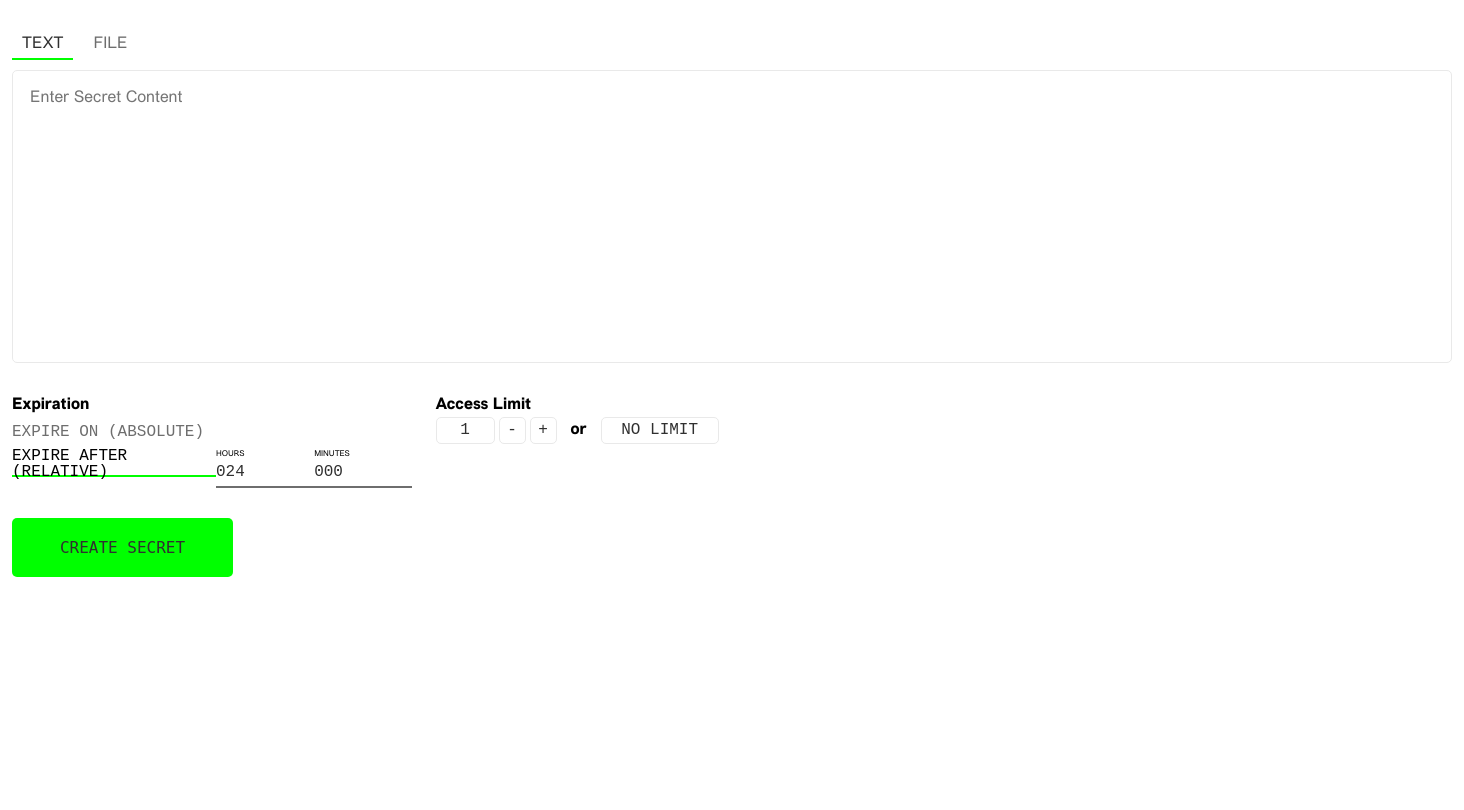
Test case: When rendering CreateSecretForm › and modifying the access limit › should increment access limit
This screenshot has width=1464, height=810.
Check: the text box with test id "secret-content" is shown, box [12, 70, 1452, 363]
Click the button with test id "access-limit-increment-button": [543, 430] box [530, 417, 556, 444]
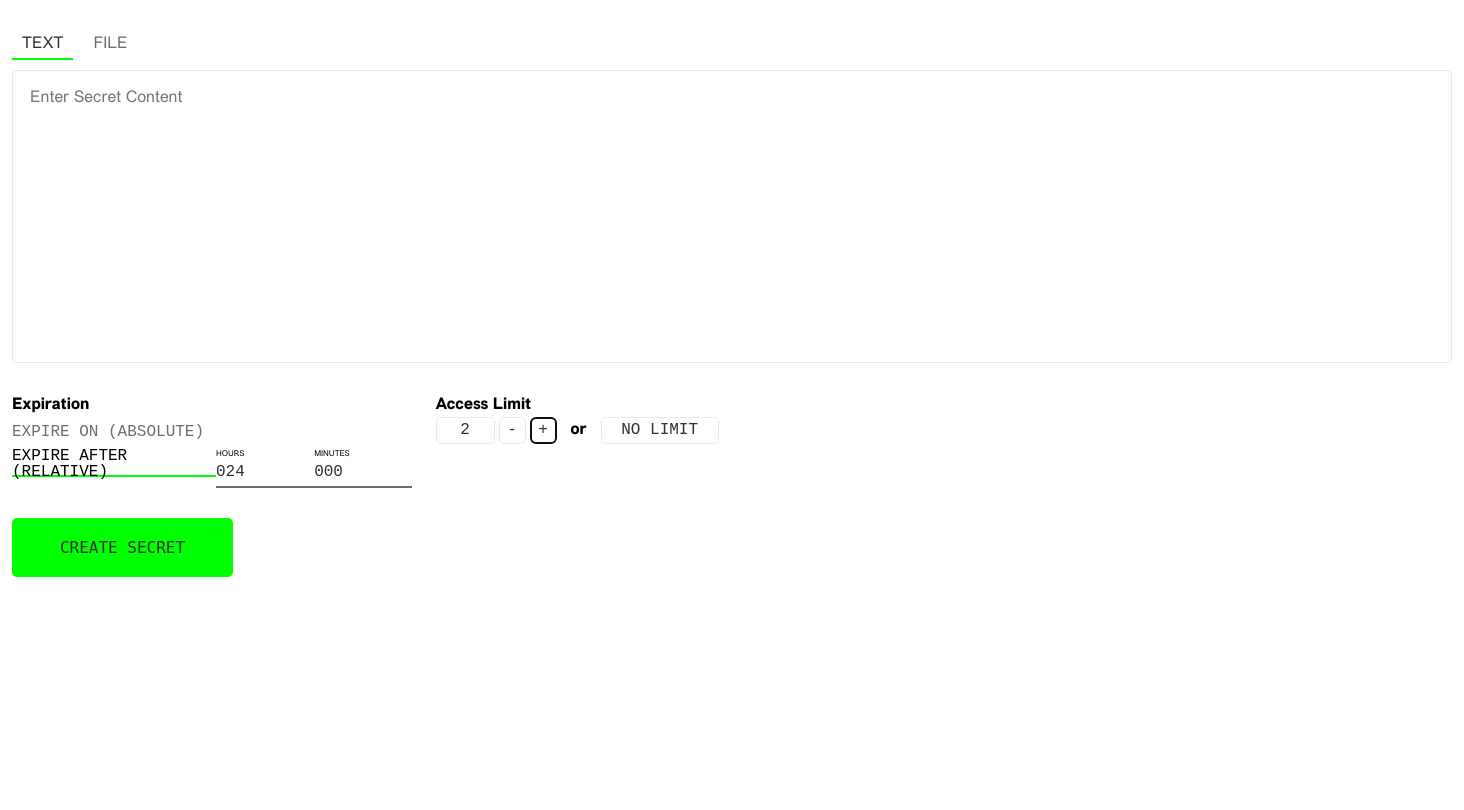
Click the button with test id "access-limit-increment-button": [543, 430] box [530, 417, 556, 444]
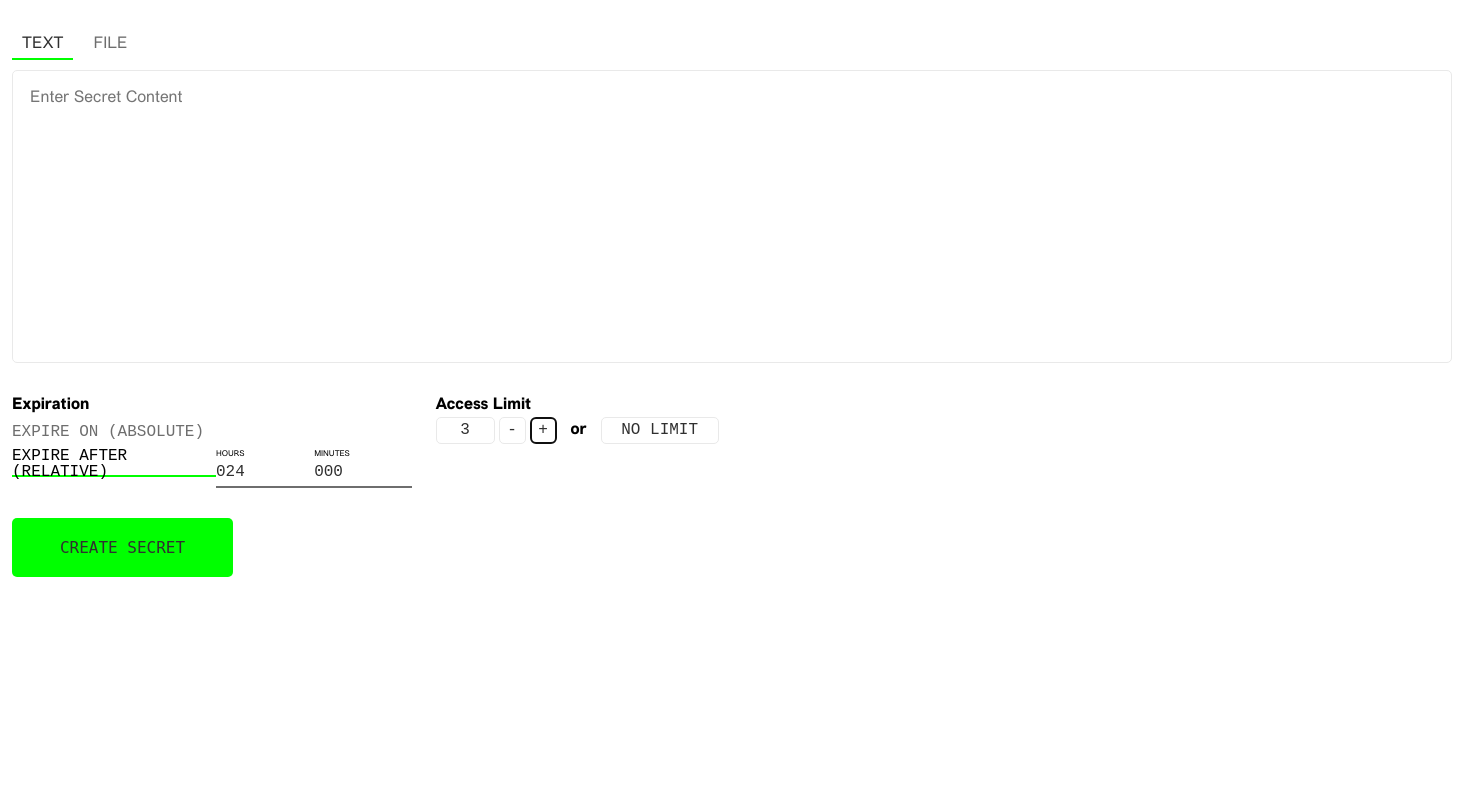
Click the button with test id "access-limit-increment-button": [543, 430] box [530, 417, 556, 444]
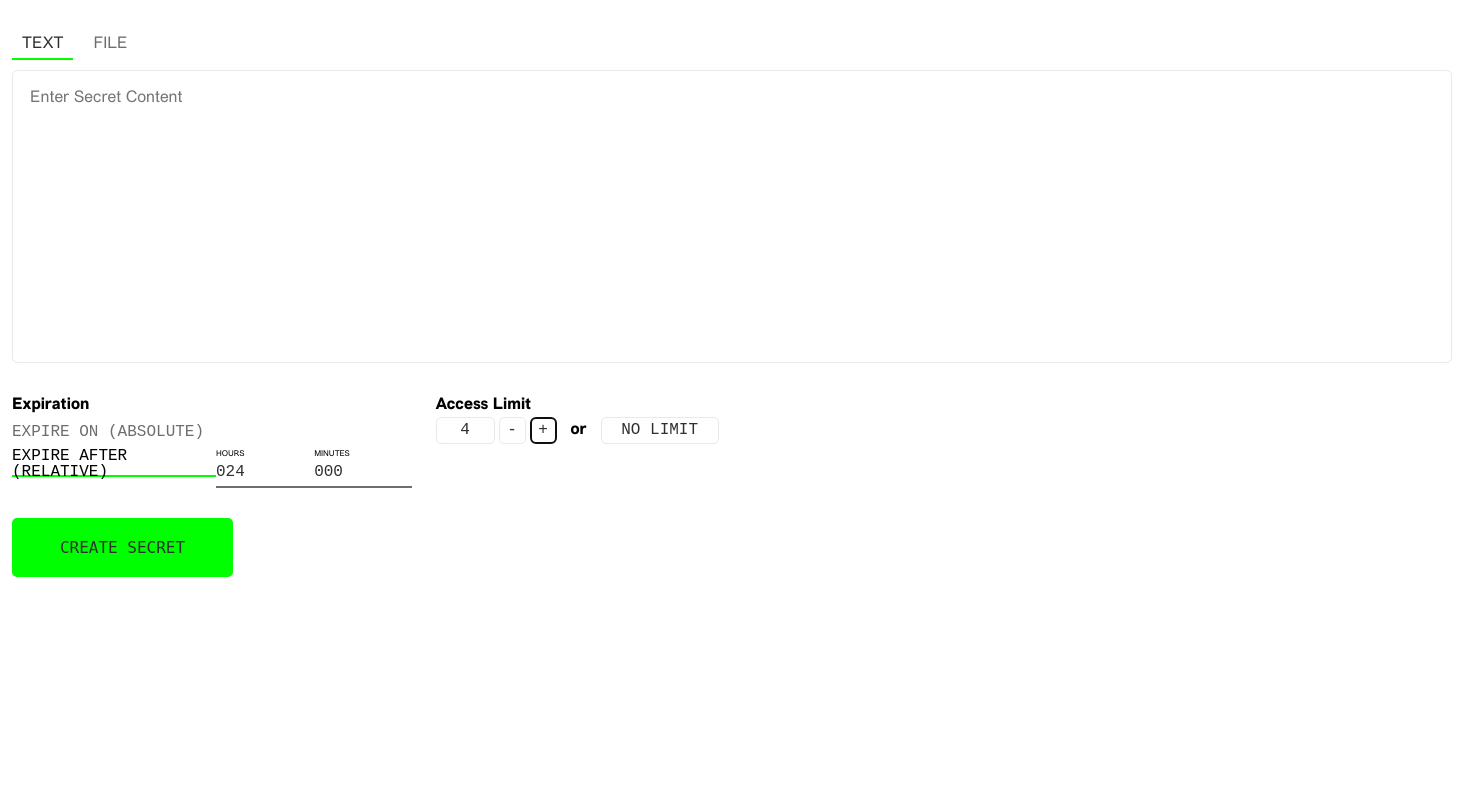
Check: the field with test id "access-limit-input" holds "4", box [436, 417, 494, 444]
